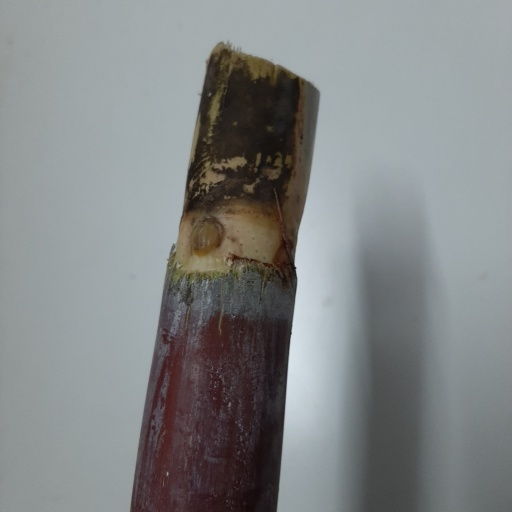Bud: (191, 216, 222, 255)
